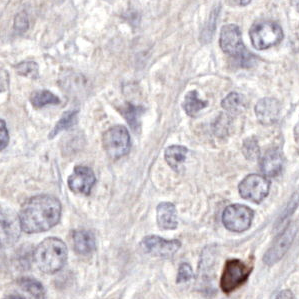Lymphocyte: (220, 258, 253, 295)
